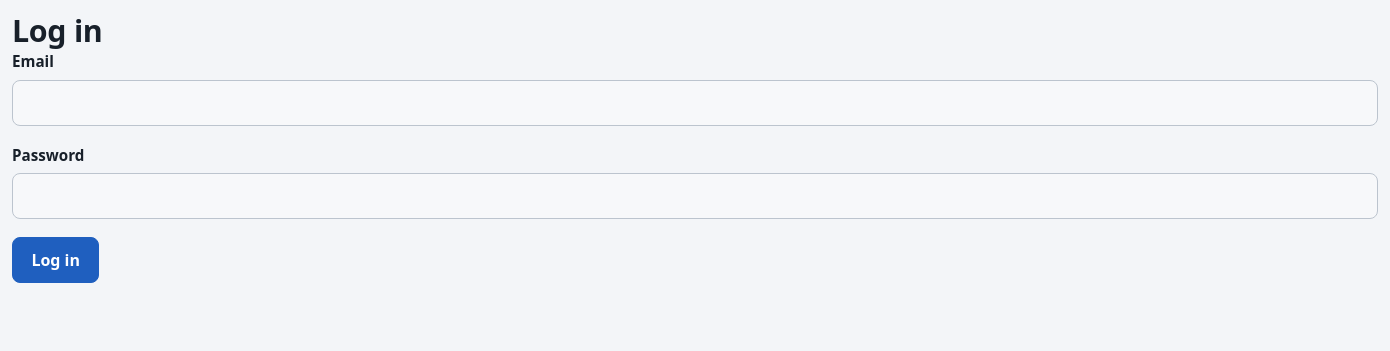
Test: LoginForm › shows one generic message for bad credentials
Type "demo.user@example.test" into the field labelled "Email" at (695, 103), box top-left (12, 80), bottom-right (1378, 126)
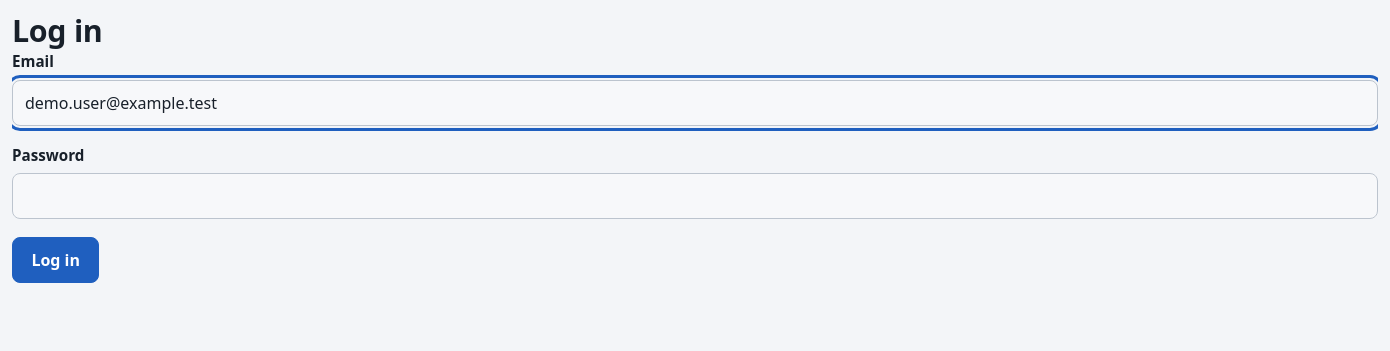
Type "WrongPassw0rd!" into the password field labelled "Password" at (695, 196), box top-left (12, 174), bottom-right (1378, 220)
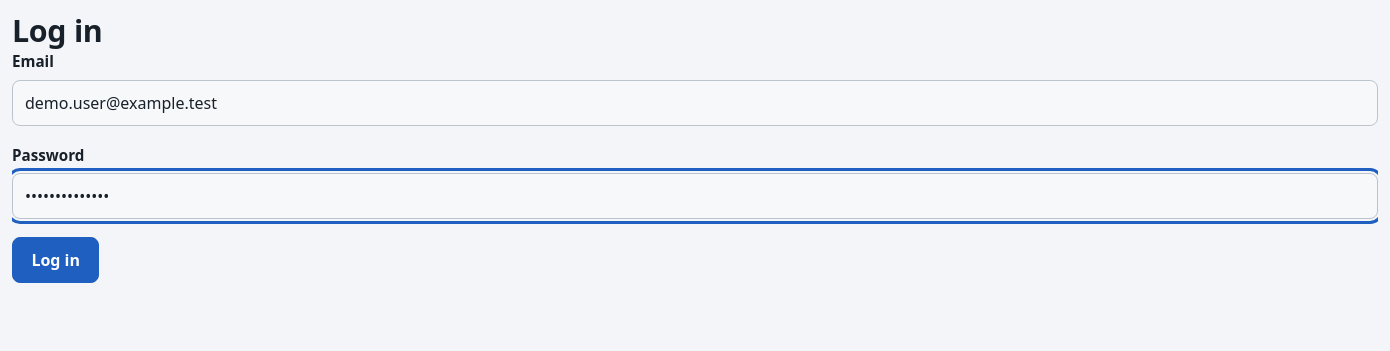
Click the button "Log in" at (56, 260), box top-left (12, 237), bottom-right (99, 283)
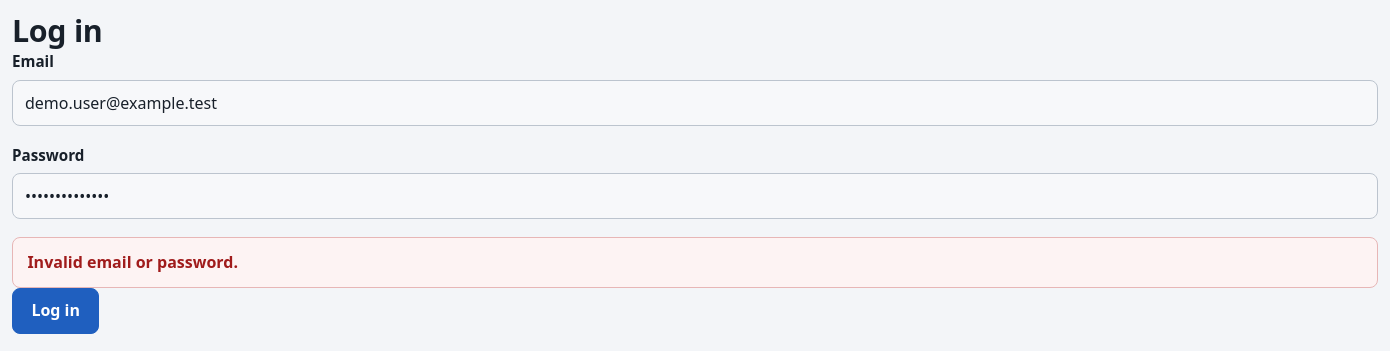
expect the number of messages is 1: met, box top-left (12, 237), bottom-right (1378, 288)
expect the message shows "Invalid email or password": met, box top-left (27, 251), bottom-right (238, 273)
